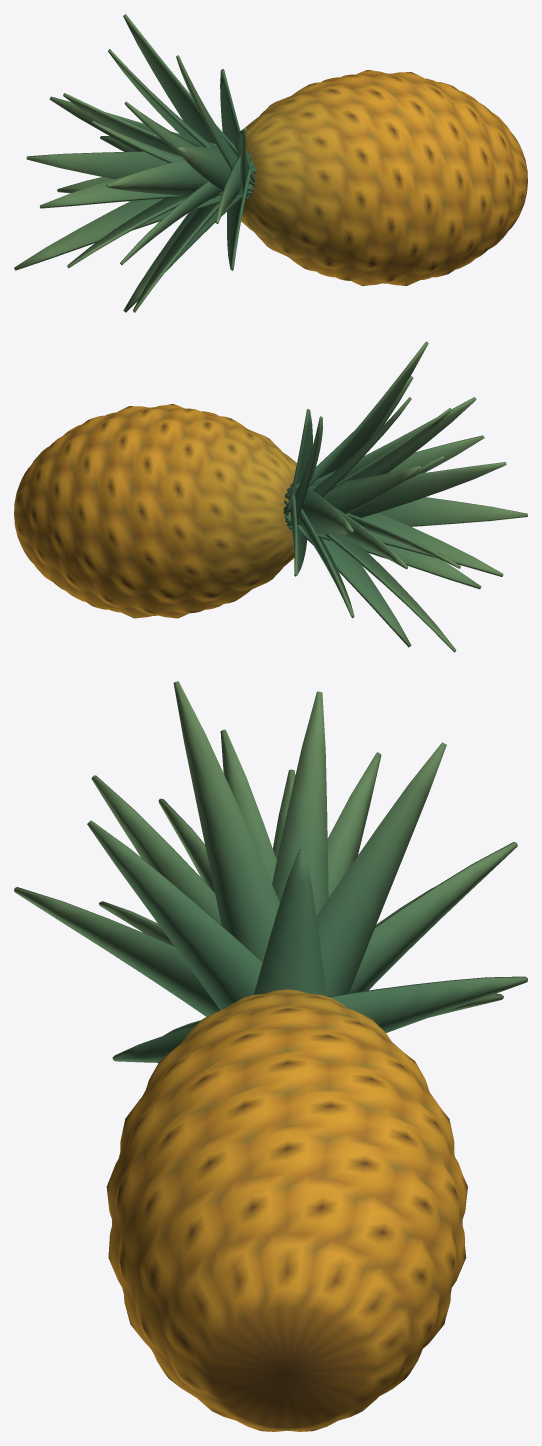
Rendered from pineapple.glb.
3 renders of one model, top to bottom at view 1: azimuth 30°, elevation 25°; view 2: azimuth 150°, elevation 25°; view 3: azimuth 270°, elevation 25°, orthographic. The views are drawn at different scales.
Visible parts, largest first — view 1: Pineapple_Body, Pineapple_Crown; view 2: Pineapple_Body, Pineapple_Crown; view 3: Pineapple_Body, Pineapple_Crown.
Boxes of the visible parts, x1,y1,x2,y2 form: Pineapple_Body: (241, 70, 527, 286); Pineapple_Crown: (14, 14, 256, 312); Pineapple_Body: (14, 404, 307, 618); Pineapple_Crown: (283, 341, 527, 652); Pineapple_Body: (106, 989, 467, 1431); Pineapple_Crown: (14, 681, 527, 1062).
Bounding box in the file's own units: 0.2246 × 0.1411 × 0.129.
